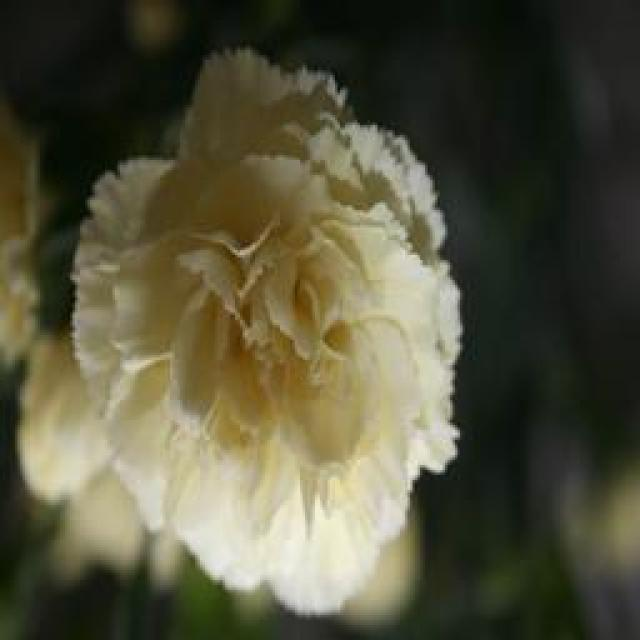carnation: (52, 9, 512, 626)
